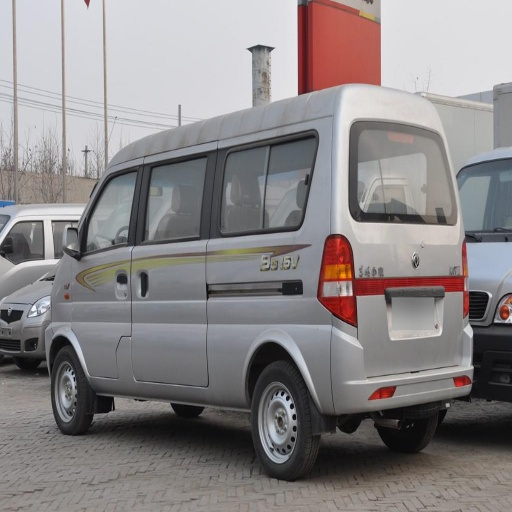back_bumper: (341, 328, 472, 414)
back_glass: (395, 178, 447, 222)
back_left_door: (133, 141, 310, 300)
back_left_light: (317, 238, 355, 324)
front_left_door: (74, 163, 143, 376)
trunk: (99, 229, 509, 411)
